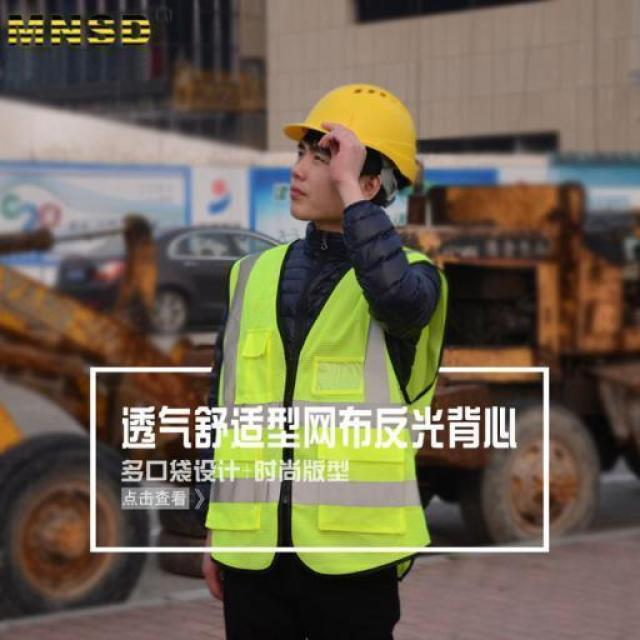face_nomask: (275, 139, 345, 216)
hand_noglove: (309, 110, 372, 184)
head_helmet: (282, 79, 422, 191)
person: (186, 72, 466, 640)
vest: (215, 220, 444, 566)
